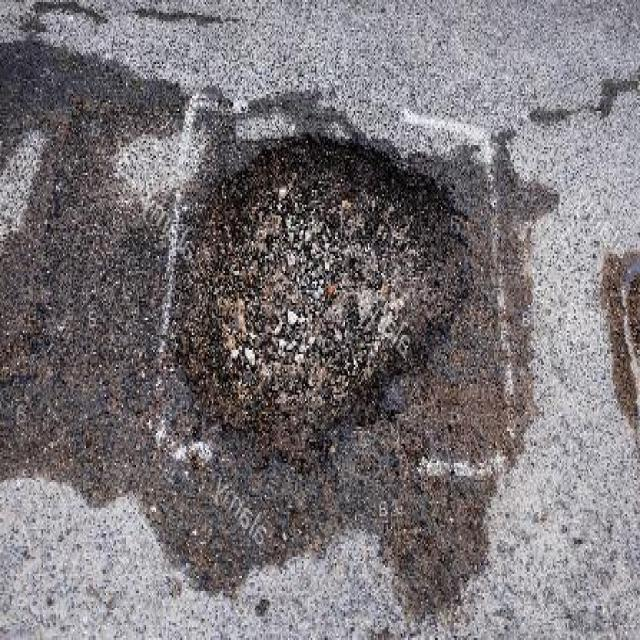buraco: (168, 124, 478, 468), (166, 125, 475, 470)
